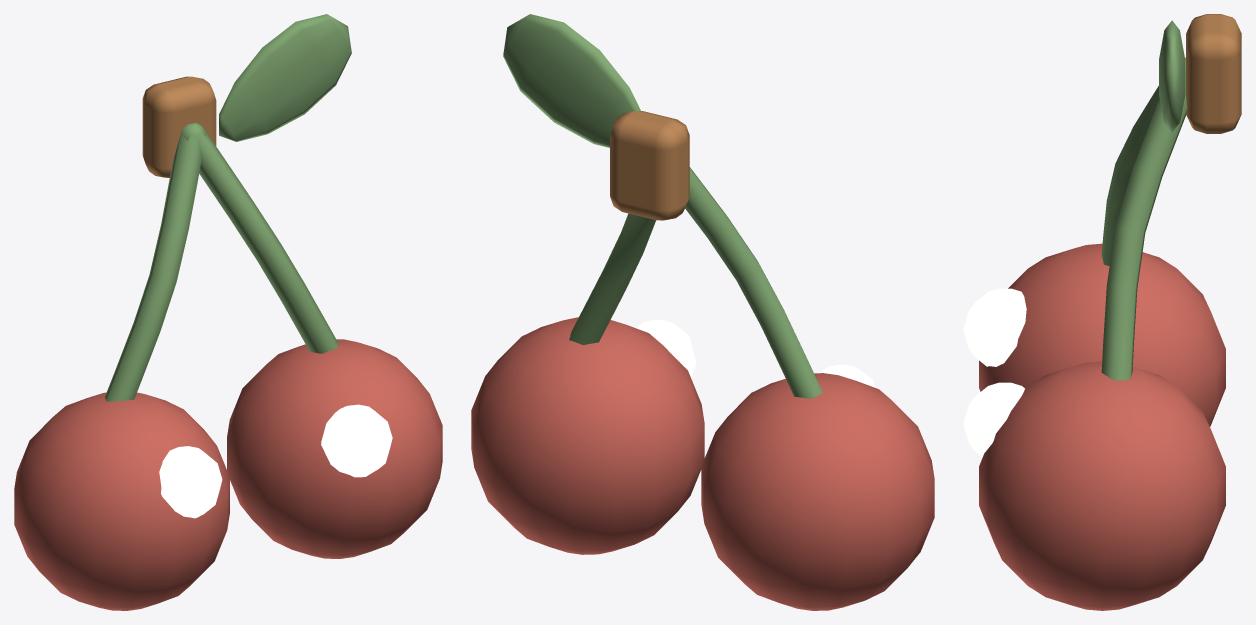
Rendered from cherry_wall_lamp.glb.
3 renders of one model, left to right at view 1: azimuth 30°, elevation 25°; view 2: azimuth 150°, elevation 25°; view 3: azimuth 270°, elevation 25°, orthographic. The views are drawn at different scales.
Visible parts, largest first — view 1: cherry_wall_lamp_mesh; view 2: cherry_wall_lamp_mesh; view 3: cherry_wall_lamp_mesh.
Part boxes in pixels (bbox=[...]): cherry_wall_lamp_mesh: bbox=[14, 14, 442, 610]; cherry_wall_lamp_mesh: bbox=[471, 14, 934, 610]; cherry_wall_lamp_mesh: bbox=[963, 14, 1241, 610].
Size of the model in its own units: 0.3773 by 0.4556 by 0.2.
